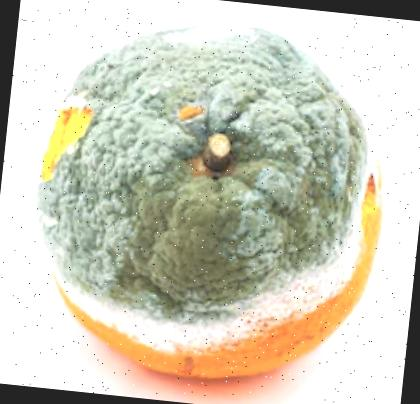Orange Rotten: (4, 0, 414, 403)
